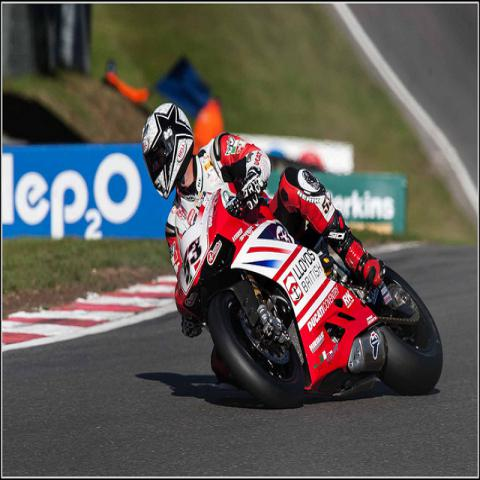motorcycle: (172, 188, 444, 409)
